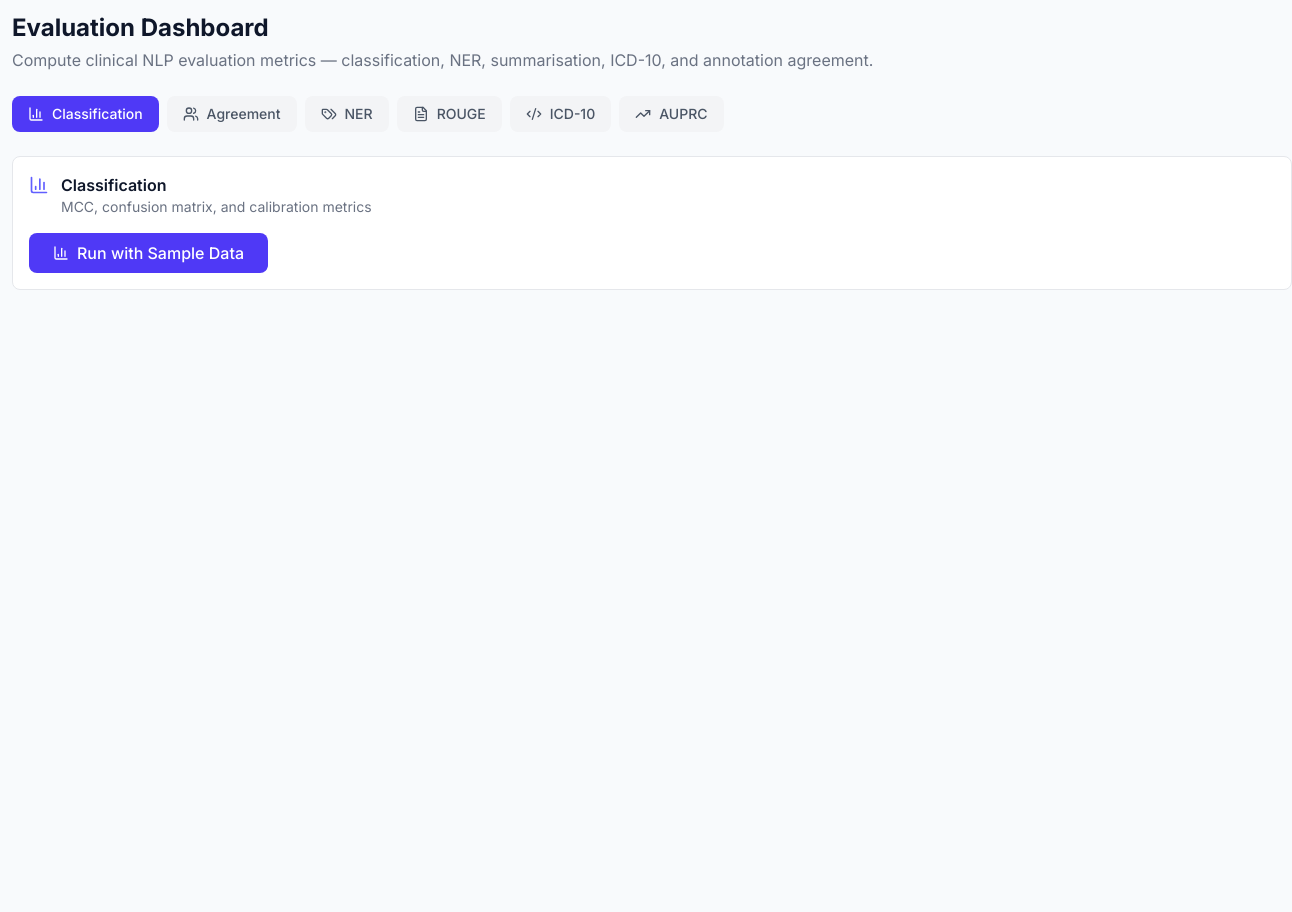
Test: EvaluationDashboard › tab navigation › clears results when switching tabs
This screenshot has width=1292, height=912.
Click the button "Run with Sample Data" at {"x": 148, "y": 253}, box [29,233,268,273]
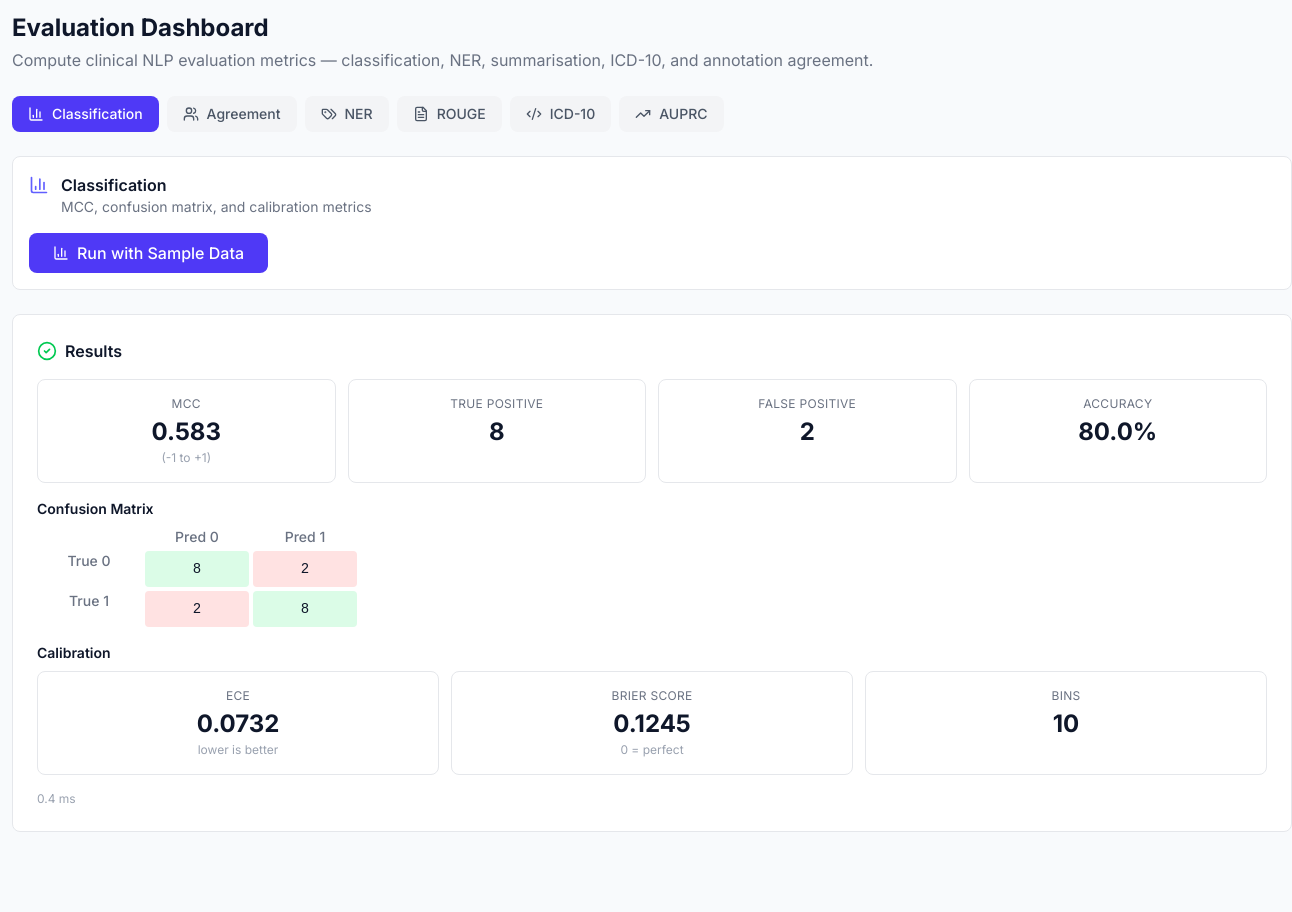
expect the heading "Results" is shown: met, box [65,339,122,363]
Click the button "Agreement" at {"x": 232, "y": 114}, box [167,96,296,132]
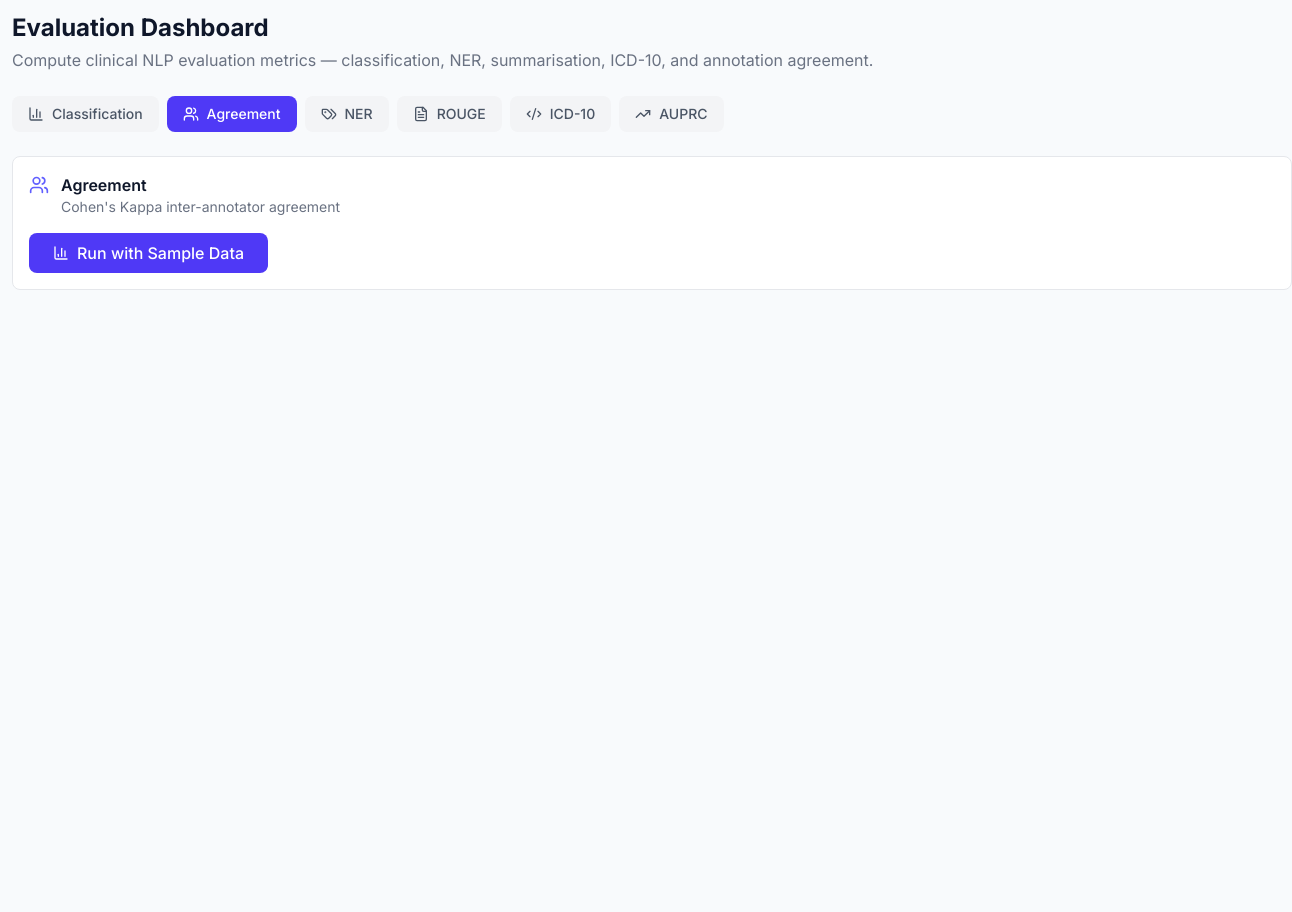
expect the heading "Results" is gone: met
